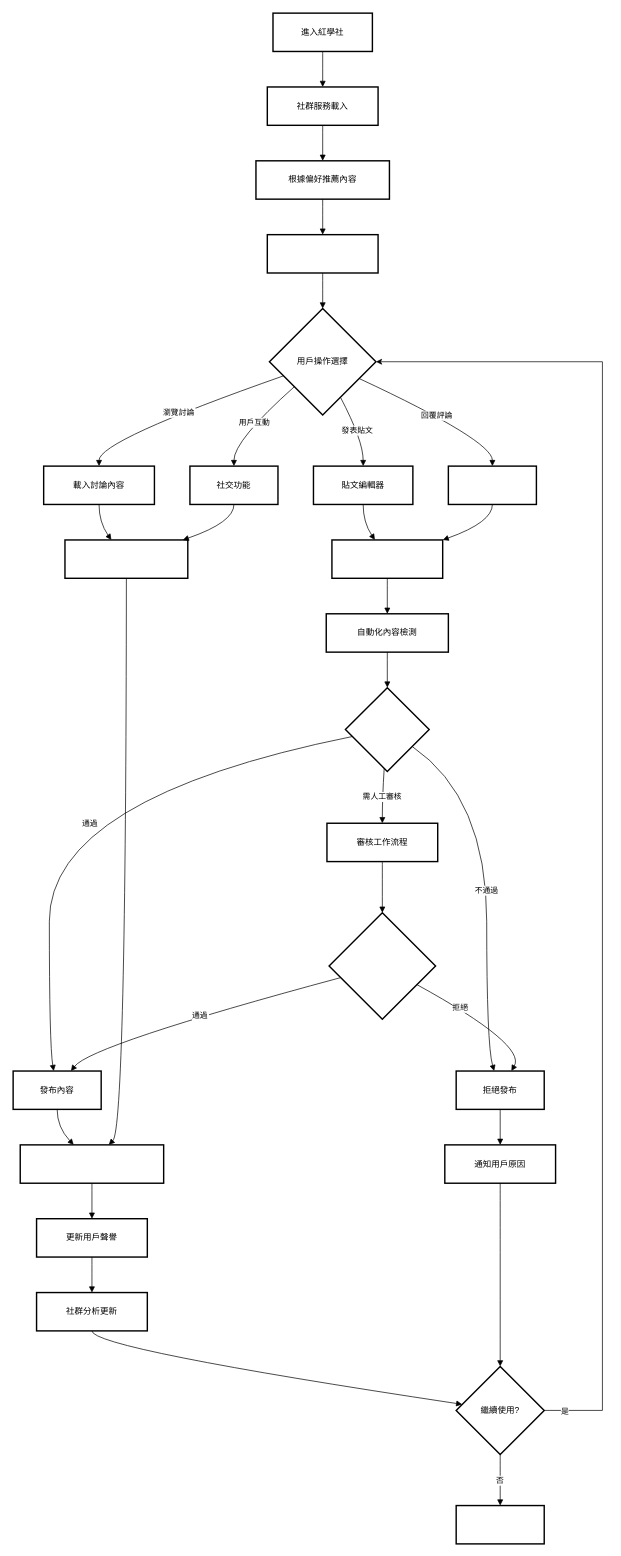
Image size: 621x1556. Some labels were removed from this diagram. The shapes that lost their labels are listed below. From the top down, each one's centre as x and y in pixels, then its label:
pixel 322 253: 顯示討論列表
pixel 492 485: 回覆功能
pixel 126 559: 點讚/收藏/分享
pixel 387 559: 內容審核系統
pixel 387 729: 檢測結果
pixel 382 966: 人工審核結果
pixel 91 1164: WebSocket即時通知
pixel 500 1524: 返回首頁
